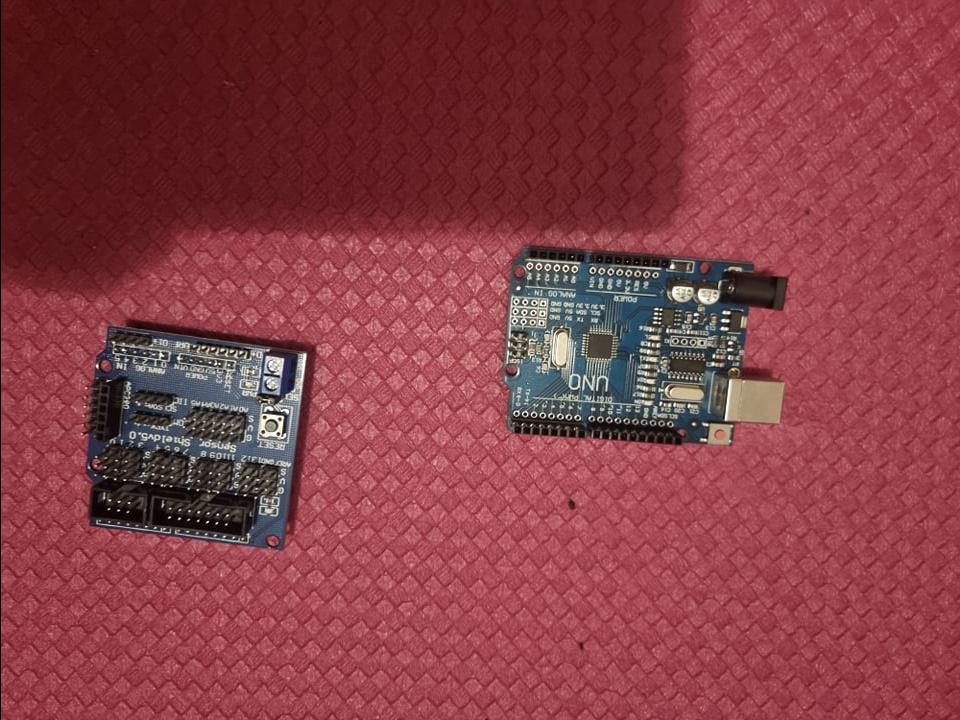5V EXPANSION: (74, 311, 311, 550)
UNO R3: (501, 247, 792, 449)
